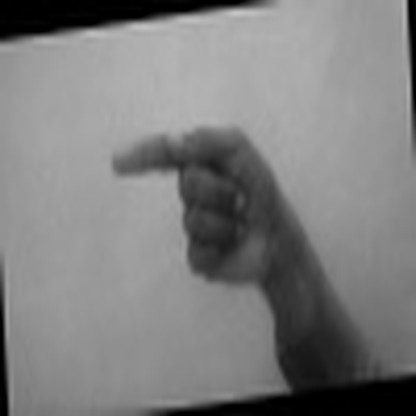g: (108, 116, 300, 288)
